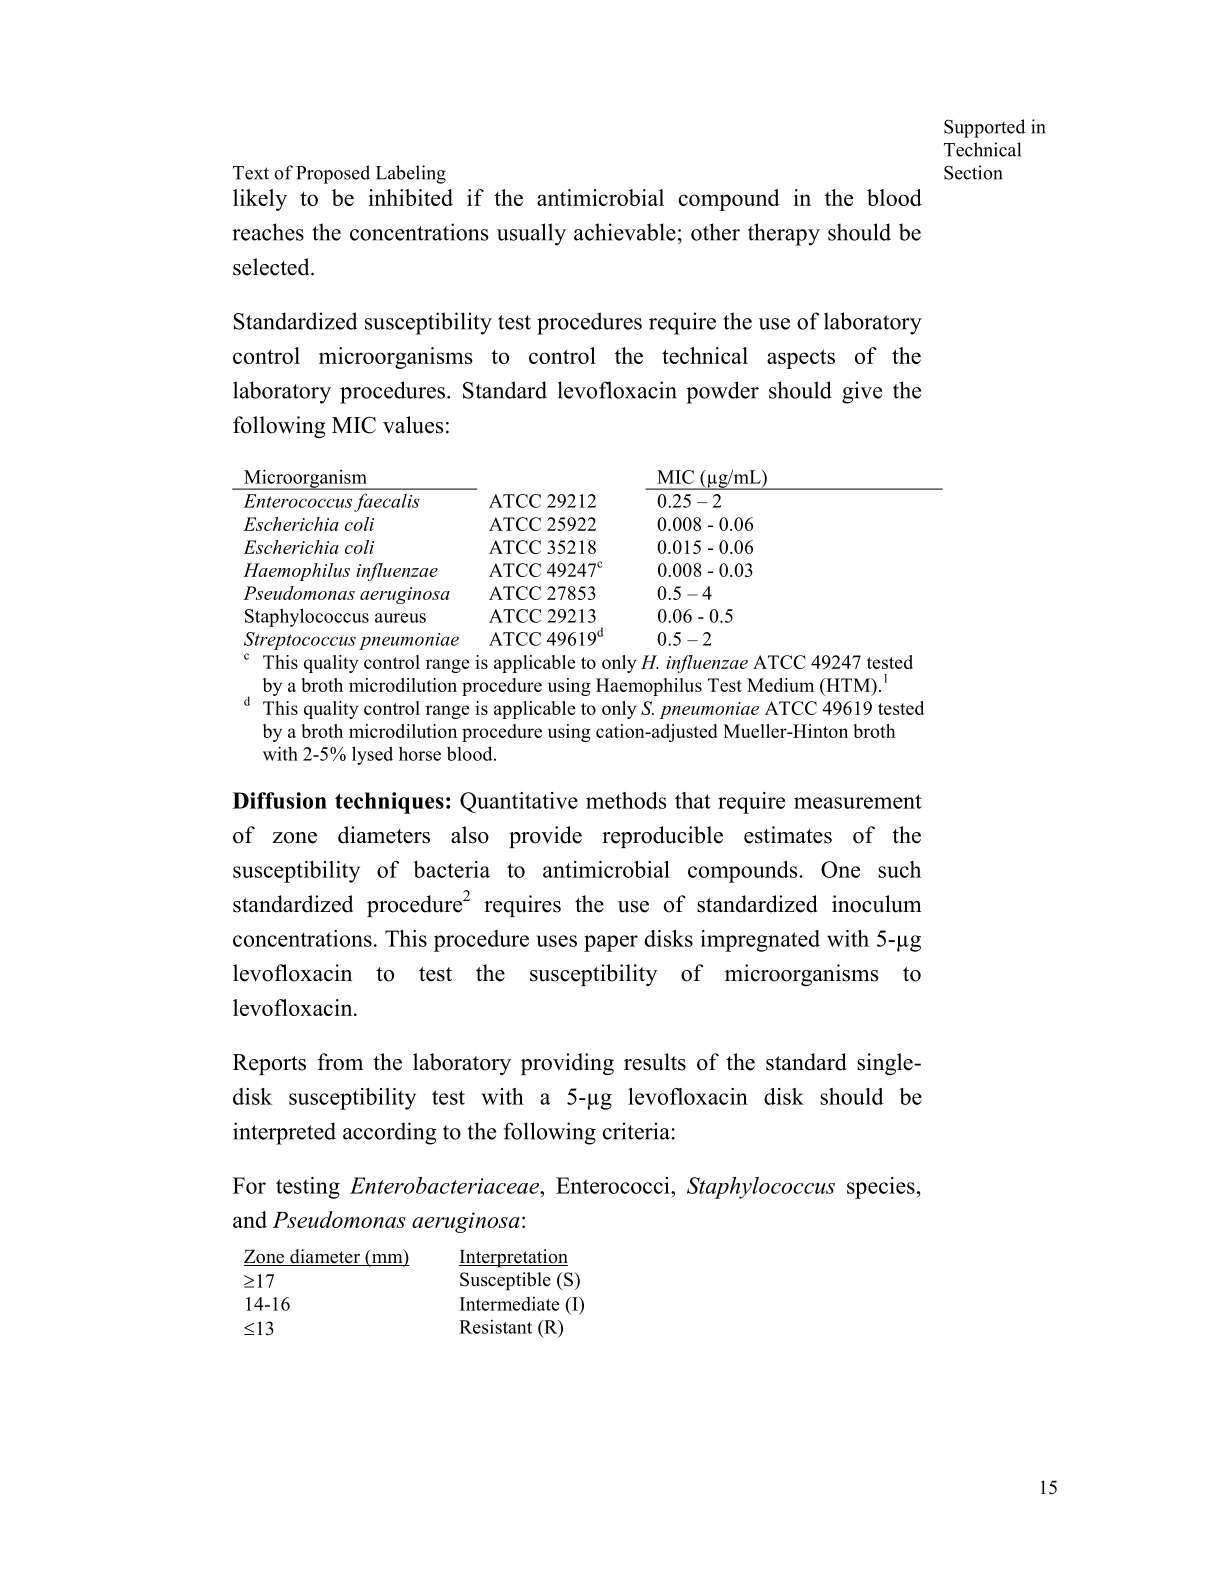nolines: (234, 467, 942, 649), (239, 1248, 588, 1336)
